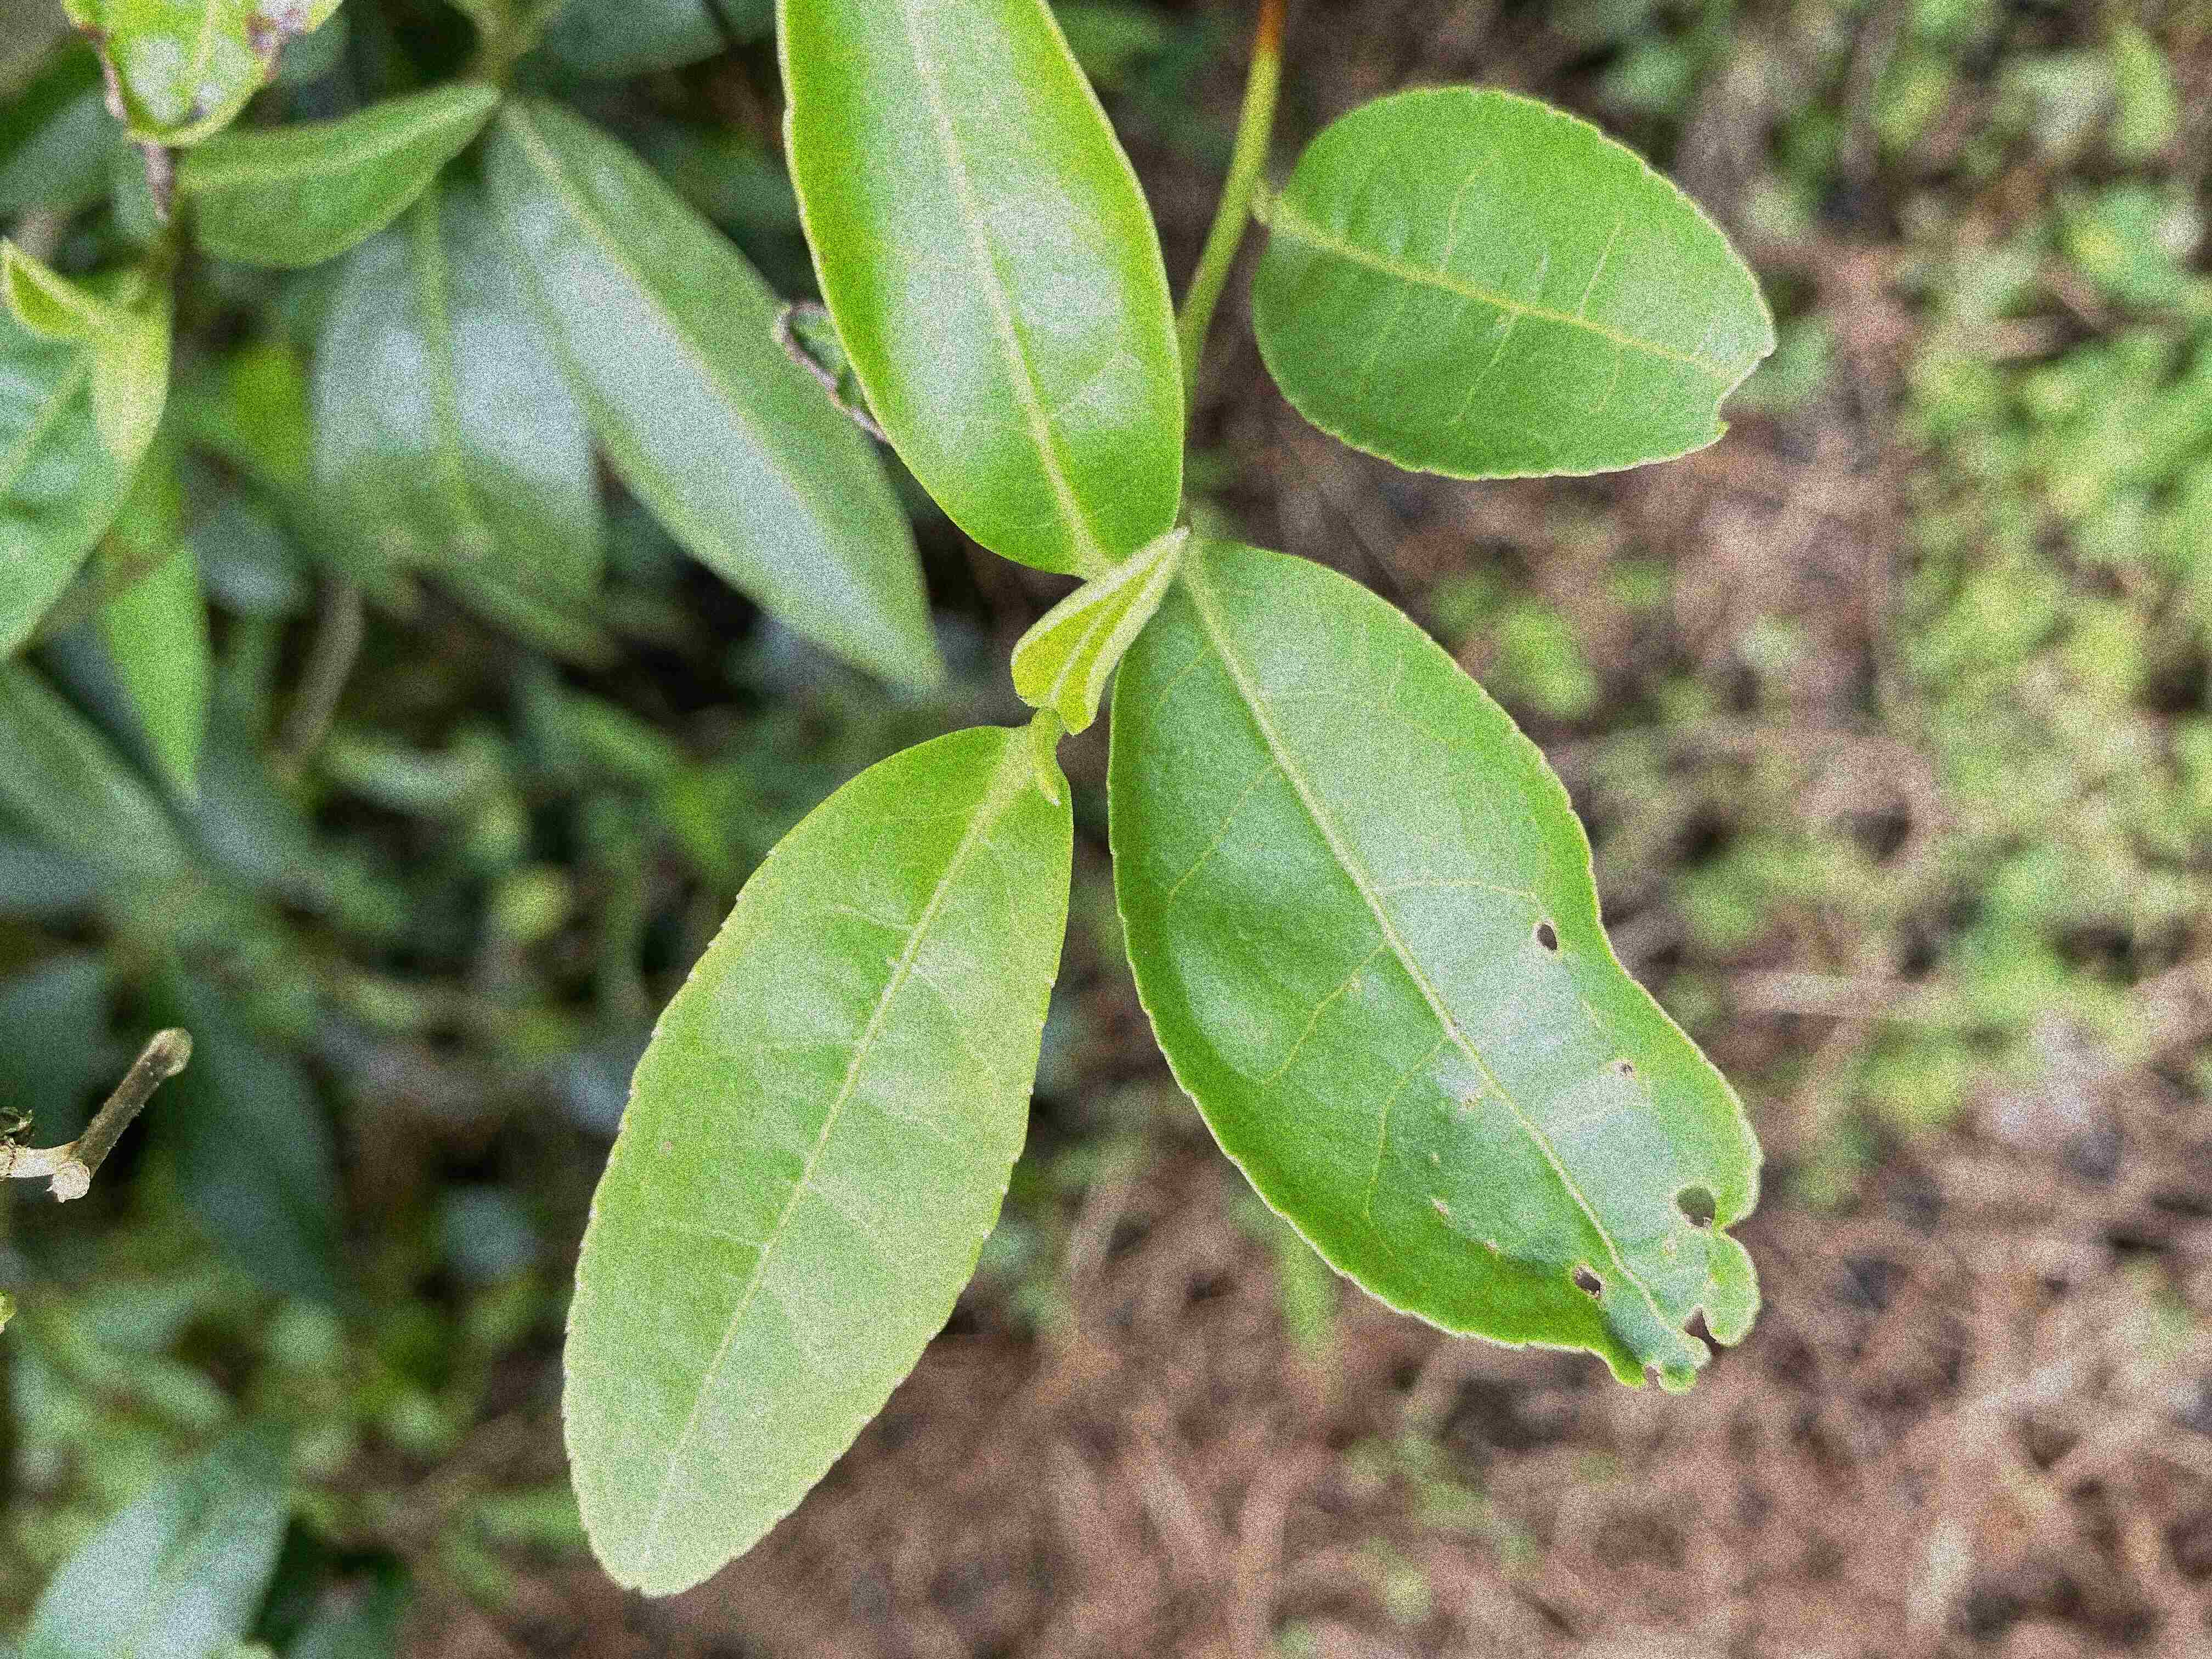chihuo_high: (1106, 535, 1766, 1396)
chihuo_low: (1249, 80, 1778, 486)
healthy: (556, 720, 1075, 1601), (773, 0, 1188, 577)
tanju_high: (52, 2, 345, 223)
